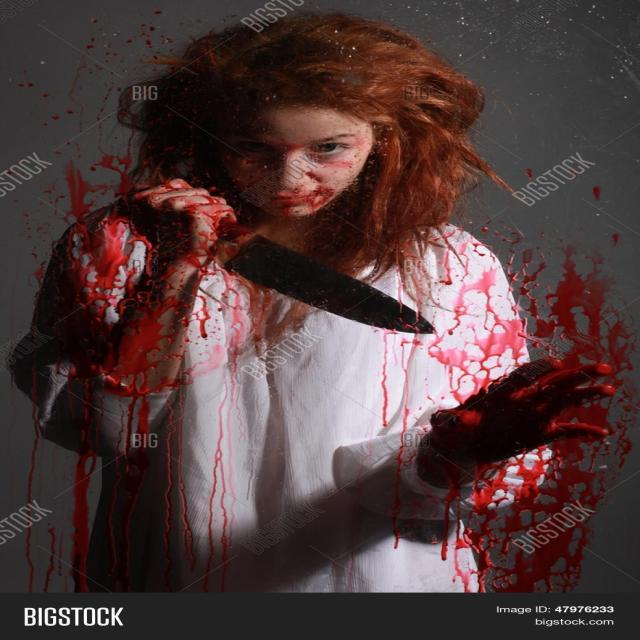flood: (454, 256, 626, 590)
